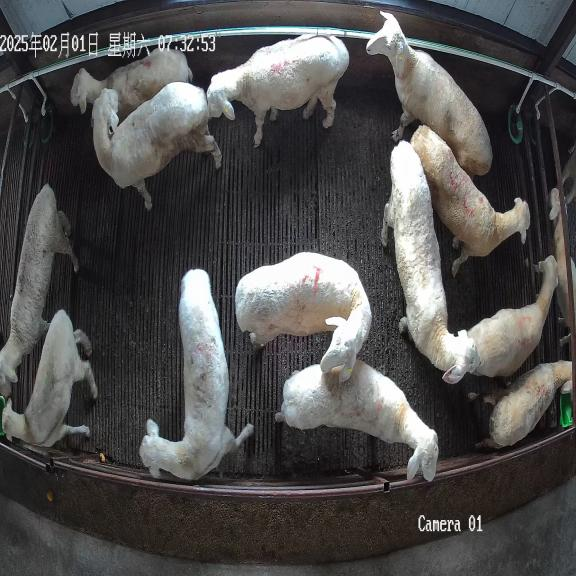stand: (140, 269, 253, 480), (381, 142, 479, 384), (366, 11, 492, 176), (276, 360, 438, 480), (411, 125, 530, 275), (235, 252, 371, 381), (0, 184, 79, 397), (92, 82, 222, 210), (207, 34, 349, 147), (2, 310, 98, 447), (468, 256, 558, 377), (469, 360, 572, 448), (70, 48, 192, 116)
